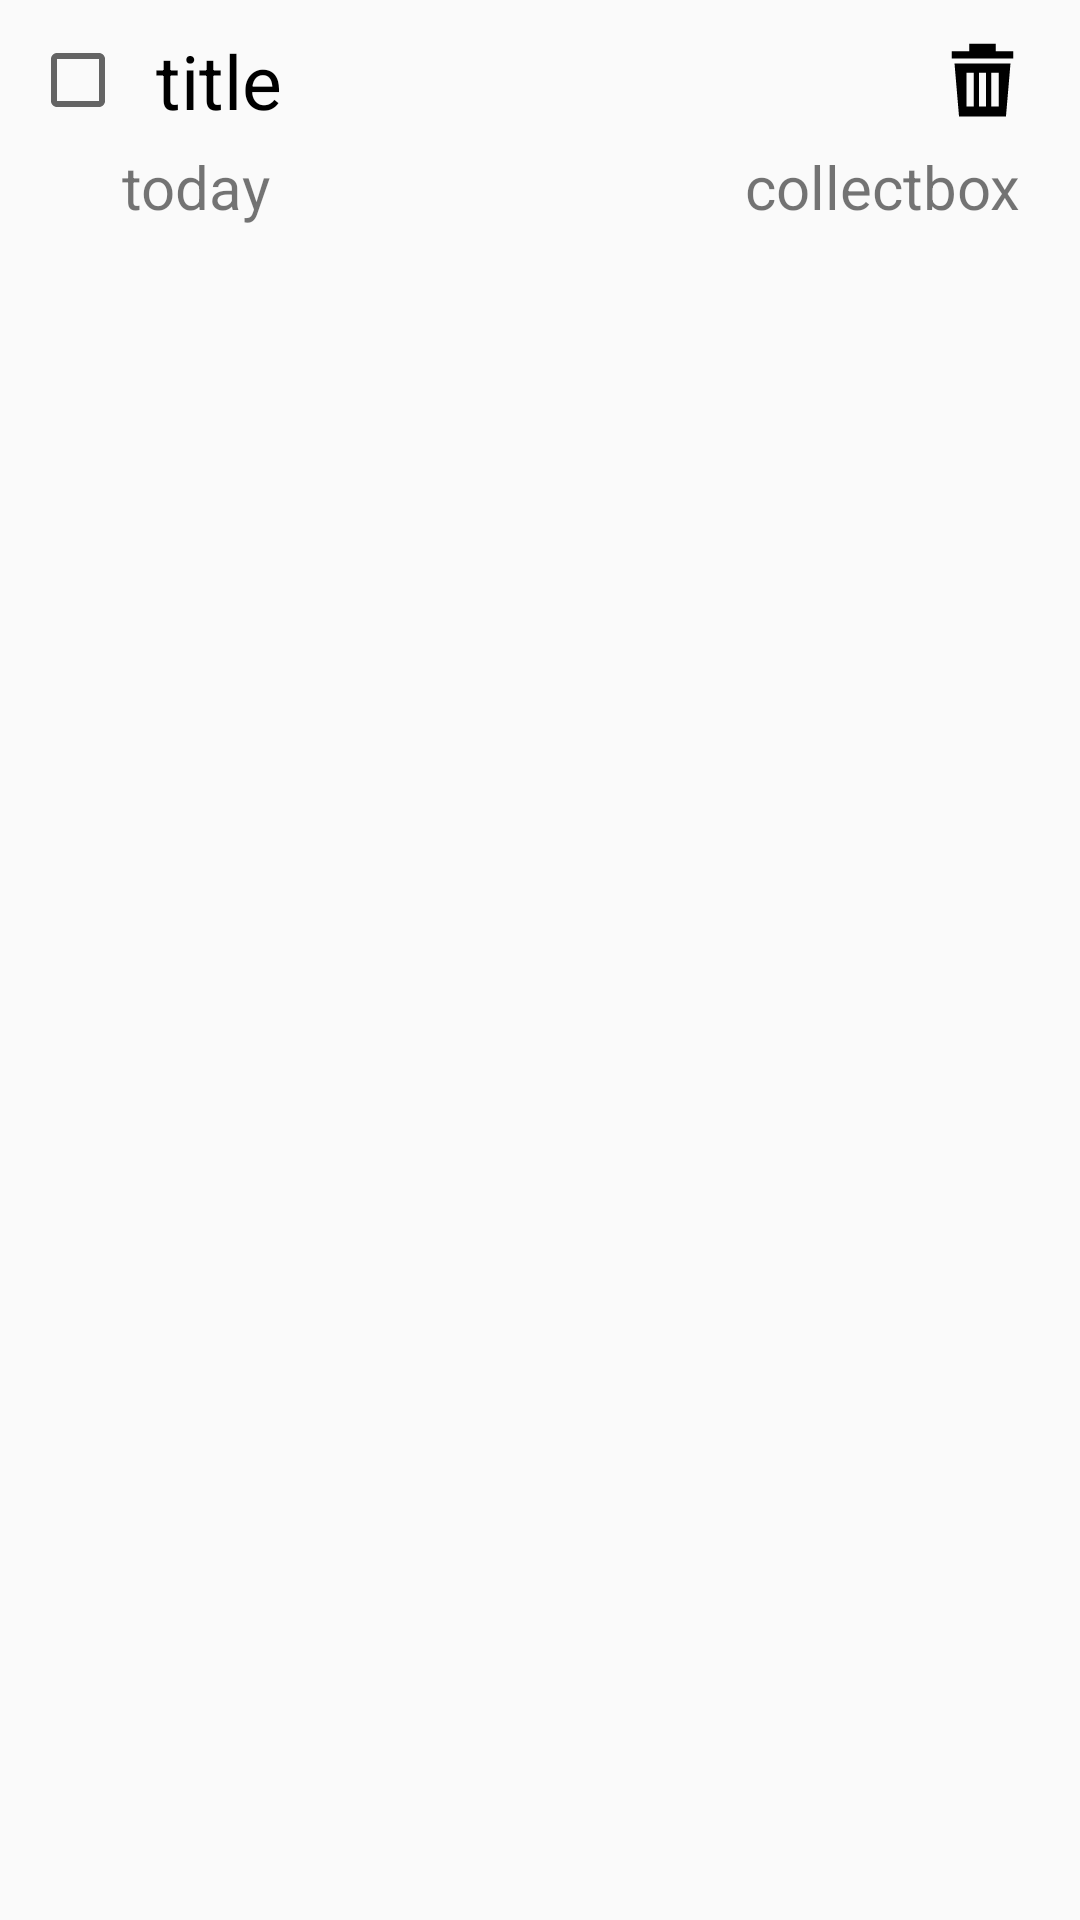

Named icons in this screenshot (1080 x 1920) and their bounding boxes, (x1, y1, x2, y2):
delete: (951, 43, 1014, 117)
